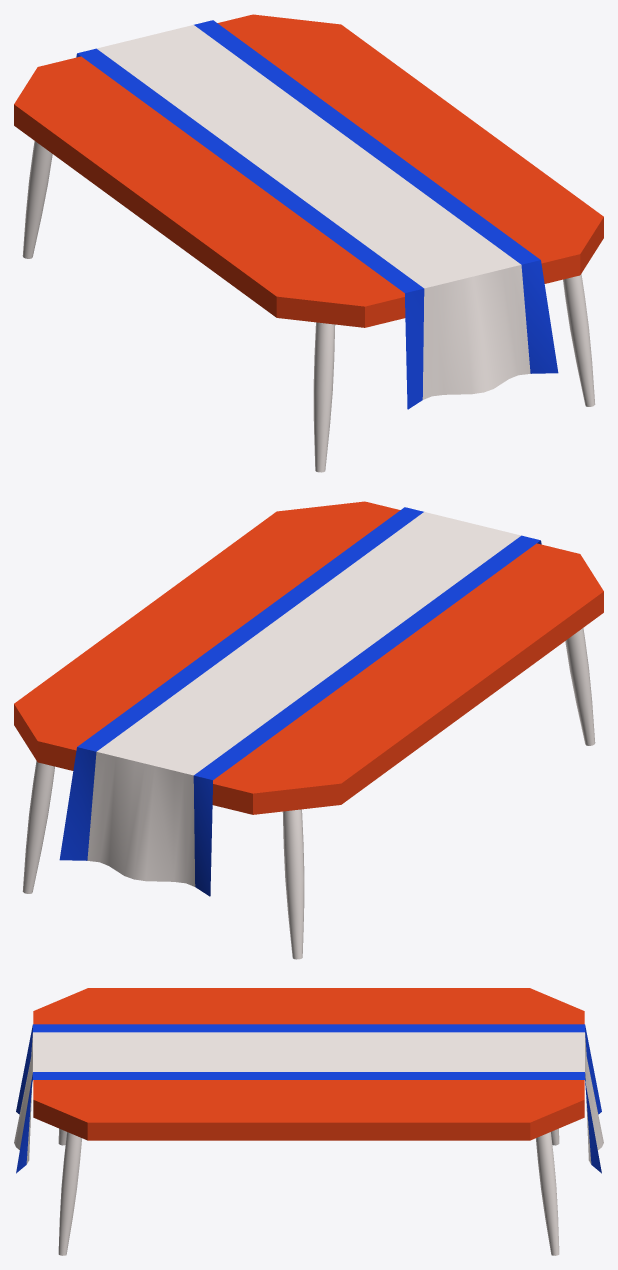
The model's file is ban 4_05.FBX.
3 renders of one model, top to bottom at view 1: azimuth 30°, elevation 25°; view 2: azimuth 150°, elevation 25°; view 3: azimuth 270°, elevation 25°, orthographic. The views are drawn at different scales.
Parts seen in each view (by area): view 1: Box1231; view 2: Box1231; view 3: Box1231.
Part boxes in pixels (box(x1,y1,x2,y2)): Box1231: box(14, 14, 603, 472); Box1231: box(14, 501, 603, 959); Box1231: box(14, 988, 603, 1255).
Bounding box in the file's own units: 2.75 × 1.4 × 5.1.
